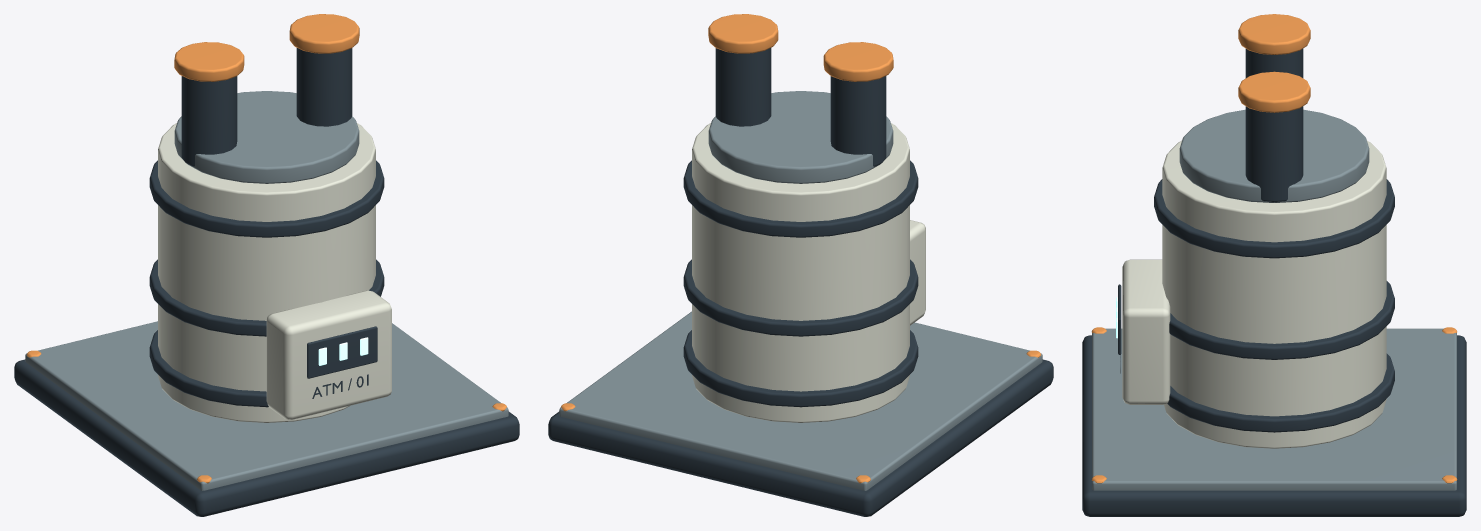
Rendered from atmosphere.glb.
3 renders of one model, left to right at view 1: azimuth 30°, elevation 25°; view 2: azimuth 150°, elevation 25°; view 3: azimuth 270°, elevation 25°, orthographic. The views are drawn at different scales.
Visible parts, largest first — view 1: Main pressure tank, Inset apron, Foundation graphite, Foundation anchor; view 2: Main pressure tank, Inset apron, Foundation graphite, Foundation anchor; view 3: Main pressure tank, Inset apron, Foundation graphite, Foundation anchor.
Boxes of the visible parts, x1=… form: Main pressure tank: x1=158, y1=123, x2=391, y2=422; Inset apron: x1=25, y1=91, x2=508, y2=490; Foundation graphite: x1=14, y1=48, x2=519, y2=516; Foundation anchor: x1=26, y1=14, x2=506, y2=483; Main pressure tank: x1=692, y1=123, x2=925, y2=422; Inset apron: x1=559, y1=91, x2=1042, y2=490; Foundation graphite: x1=548, y1=48, x2=1053, y2=516; Foundation anchor: x1=561, y1=14, x2=1041, y2=483; Main pressure tank: x1=1122, y1=140, x2=1386, y2=448; Inset apron: x1=1092, y1=109, x2=1456, y2=490; Foundation graphite: x1=1082, y1=49, x2=1466, y2=516; Foundation anchor: x1=1091, y1=14, x2=1457, y2=483.
Bounding box in the file's own units: 3.6 × 3.95 × 3.6.
